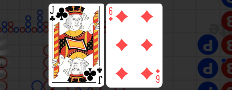6D: (108, 6, 114, 23)
JC: (49, 6, 56, 23)
